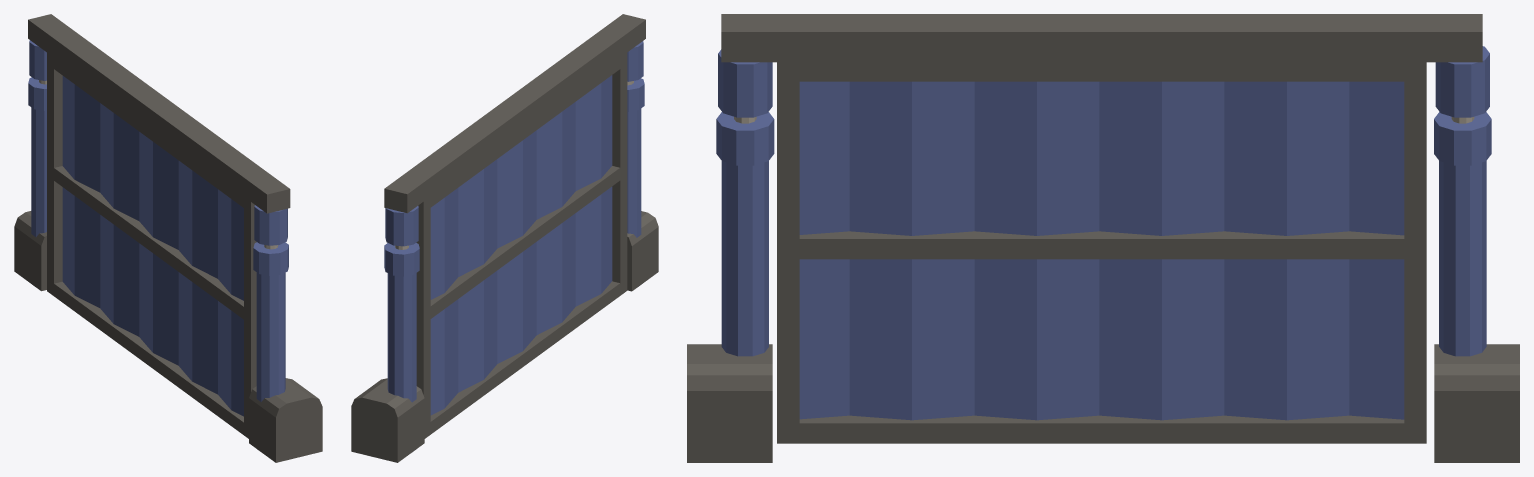
File: Steam_Prop_Door_Rise.FBX
3 views of the same model, side by side, from view 1: azimuth 30°, elevation 25°; view 2: azimuth 150°, elevation 25°; view 3: azimuth 270°, elevation 25° (orthographic). The views are drawn at different scales.
Visible parts, largest first — view 1: Door, Steam_Prop_Door_Rise; view 2: Door, Steam_Prop_Door_Rise; view 3: Door, Steam_Prop_Door_Rise.
Part boxes in pixels (<box>): Door: <box>28,14,290,438</box>; Steam_Prop_Door_Rise: <box>14,77,322,462</box>; Door: <box>384,14,645,438</box>; Steam_Prop_Door_Rise: <box>351,78,658,462</box>; Door: <box>718,14,1489,443</box>; Steam_Prop_Door_Rise: <box>687,112,1519,462</box>.
Size of the model in its own units: 0.8461 by 4.46 by 7.99.
1 material, 1 textured.
